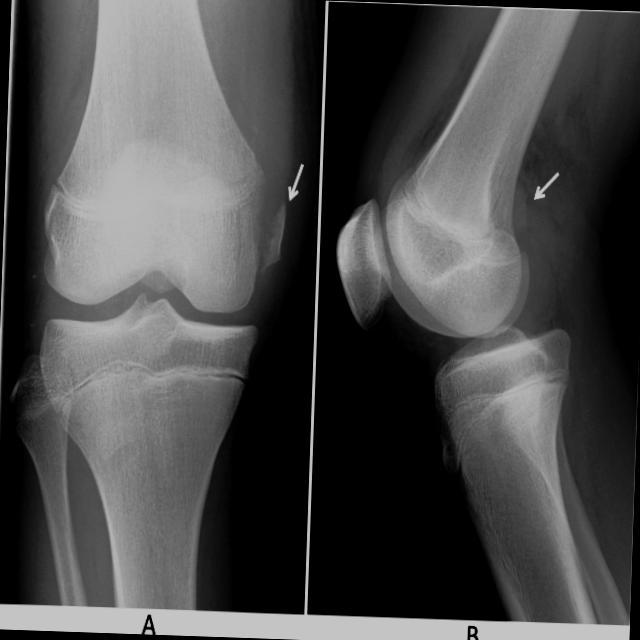Avlusion Fracture: (254, 191, 291, 282), (502, 186, 539, 236)
